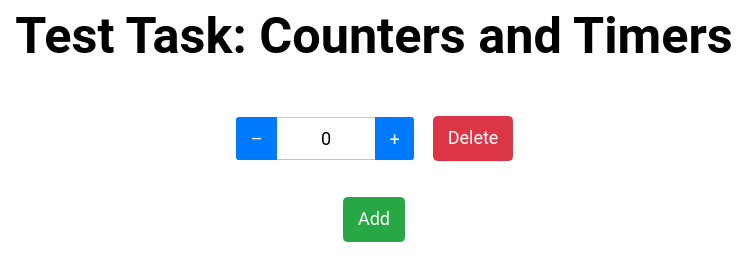
Scenario: App › increments counter by click on 'plus'
The width and height of the screenshot is (748, 259).
Click the button with test id "1_plus": (394, 138) x1=375 y1=117 x2=414 y2=160
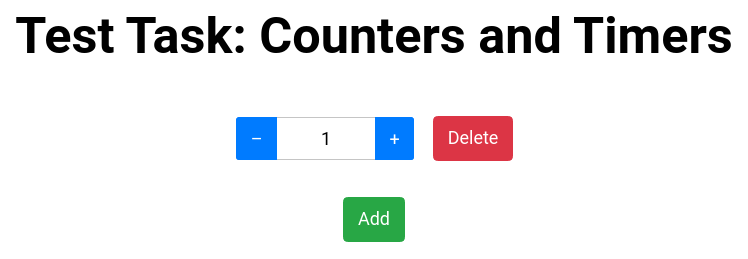
Click the button with test id "1_plus": (394, 138) x1=375 y1=117 x2=414 y2=160
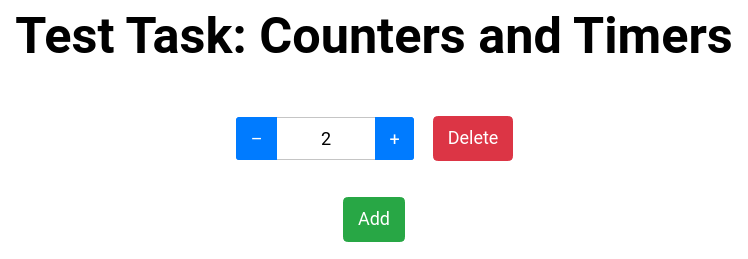
expect the text with test id "1_span" reads "2": met, box x1=321 y1=128 x2=331 y2=149
